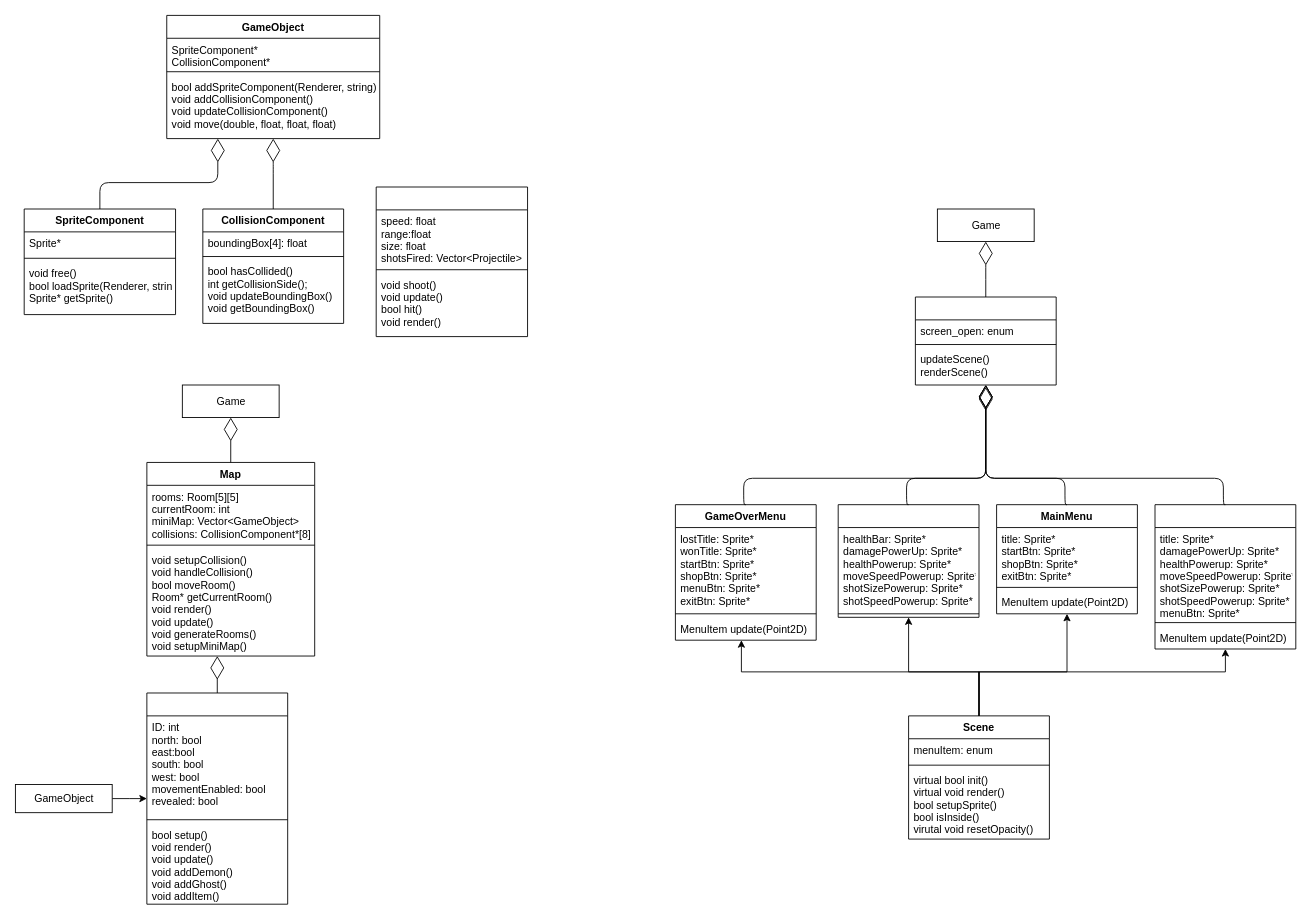
Image size: 1311x922. Some labels were removed from this diagram. The box of each missing label's shape, as (x1, y1, x2, y2) in pixels:
GameScene: (837, 504, 979, 617)
Room: (146, 692, 288, 904)
SceneManager: (914, 296, 1056, 385)
ShootComponent: (375, 186, 528, 337)
ShopMenu: (1154, 504, 1296, 649)
